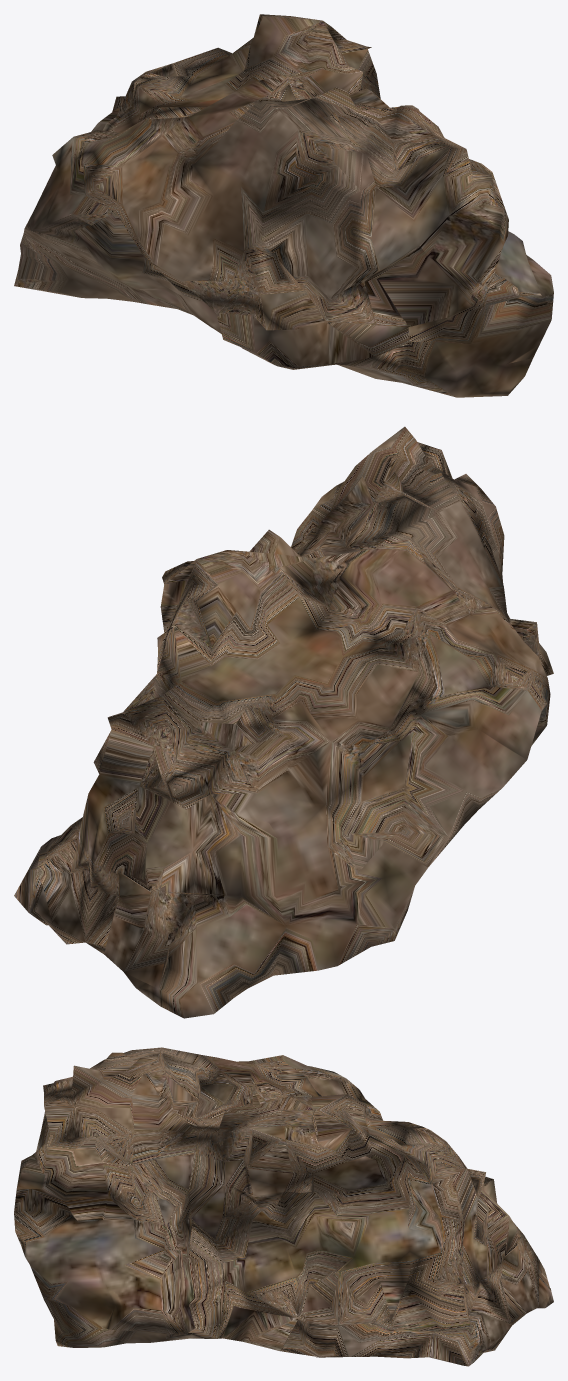
Rendered from rock-boulder-01.lite.6580a27c.glb.
The picture shows the model from 3 angles, top to bottom: view 1: azimuth 30°, elevation 25°; view 2: azimuth 150°, elevation 25°; view 3: azimuth 270°, elevation 25°; orthographic projection. The views are drawn at different scales.
Visible parts, largest first — view 1: model; view 2: model; view 3: model.
Part boxes in pixels (x1=…): model: x1=14, y1=14, x2=553, y2=397; model: x1=14, y1=426, x2=553, y2=1018; model: x1=14, y1=1047, x2=553, y2=1366.
Bounding box in the file's own units: 1.27 × 1 × 1.81.
Materials: 1 (1 with a texture image).
